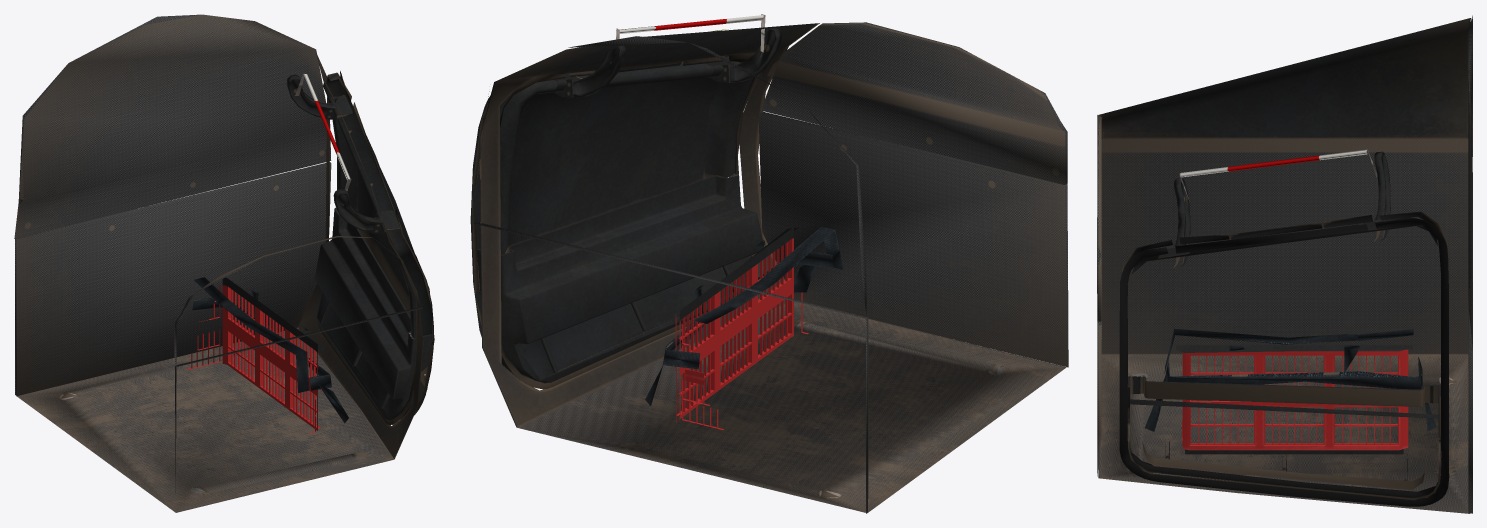
Rendered from Tecnam2012_Front_Baggage_LOD02.gltf.
3 renders of one model, left to right at view 1: azimuth 30°, elevation 25°; view 2: azimuth 150°, elevation 25°; view 3: azimuth 270°, elevation 25°, orthographic. The views are drawn at different scales.
Parts seen in each view (by area): view 1: FB_Cube.031, FB_Cube.030, FB_Cube.027, FB_Cube.034, FB_Cube.036, FB_Cube.026, FB_Cube.021, FB_Cube.035, FB_Cube.028, FB_Circle.054, FB_Cube.029, FB_Circle.057 (+1 smaller); view 2: FB_Cube.027, FB_Cube.028, FB_Cube.034, FB_Cube.036, FB_Cube.029, FB_Cube.026, FB_Cube.021, FB_Cube.035, FB_Cube.030, FB_Cube.031, FB_Circle.054, FB_Circle.057 (+1 smaller); view 3: FB_Cube.027, FB_Cube.035, FB_Cube.026, FB_Cube.034, FB_Cube.021, FB_Cube.036, FB_Cube.031, Front_baggage_handle_inside.002, FB_Cube.030, FB_Cube.029, FB_Circle.057, FB_Circle.054 (+1 smaller).
Boxes of the visible parts, bbox=[...] form: FB_Cube.031: bbox=[14, 14, 331, 238]; FB_Cube.030: bbox=[15, 162, 331, 395]; FB_Cube.027: bbox=[16, 51, 423, 512]; FB_Cube.034: bbox=[314, 207, 431, 420]; FB_Cube.036: bbox=[323, 79, 433, 415]; FB_Cube.026: bbox=[186, 277, 325, 432]; FB_Cube.021: bbox=[192, 277, 348, 423]; FB_Cube.035: bbox=[319, 71, 434, 424]; FB_Cube.028: bbox=[175, 307, 422, 493]; FB_Circle.054: bbox=[333, 188, 381, 232]; FB_Cube.029: bbox=[174, 235, 403, 366]; FB_Circle.057: bbox=[286, 74, 334, 117]; FB_Cube.027: bbox=[479, 23, 1066, 513]; FB_Cube.028: bbox=[758, 112, 1068, 367]; FB_Cube.034: bbox=[477, 173, 763, 382]; FB_Cube.036: bbox=[470, 56, 753, 380]; FB_Cube.029: bbox=[761, 22, 1067, 184]; FB_Cube.026: bbox=[675, 227, 808, 429]; FB_Cube.021: bbox=[645, 227, 843, 405]; FB_Cube.035: bbox=[471, 53, 758, 388]; FB_Cube.030: bbox=[473, 221, 868, 513]; FB_Cube.031: bbox=[472, 36, 866, 316]; FB_Circle.054: bbox=[723, 27, 781, 82]; FB_Circle.057: bbox=[566, 45, 625, 97]; FB_Cube.027: bbox=[1098, 18, 1470, 513]; FB_Cube.035: bbox=[1119, 211, 1449, 506]; FB_Cube.026: bbox=[1176, 345, 1412, 454]; FB_Cube.034: bbox=[1127, 375, 1441, 500]; FB_Cube.021: bbox=[1145, 328, 1436, 431]; FB_Cube.036: bbox=[1131, 217, 1437, 489]; FB_Cube.031: bbox=[1468, 15, 1472, 350]; Front_baggage_handle_inside.002: bbox=[1179, 148, 1377, 200]; FB_Cube.030: bbox=[1468, 172, 1472, 513]; FB_Cube.029: bbox=[1097, 115, 1101, 321]; FB_Circle.057: bbox=[1374, 151, 1390, 241]; FB_Circle.054: bbox=[1174, 177, 1190, 267].
Size of what is drawn, in the model's own units: 0.942 by 0.9483 by 0.7958.
